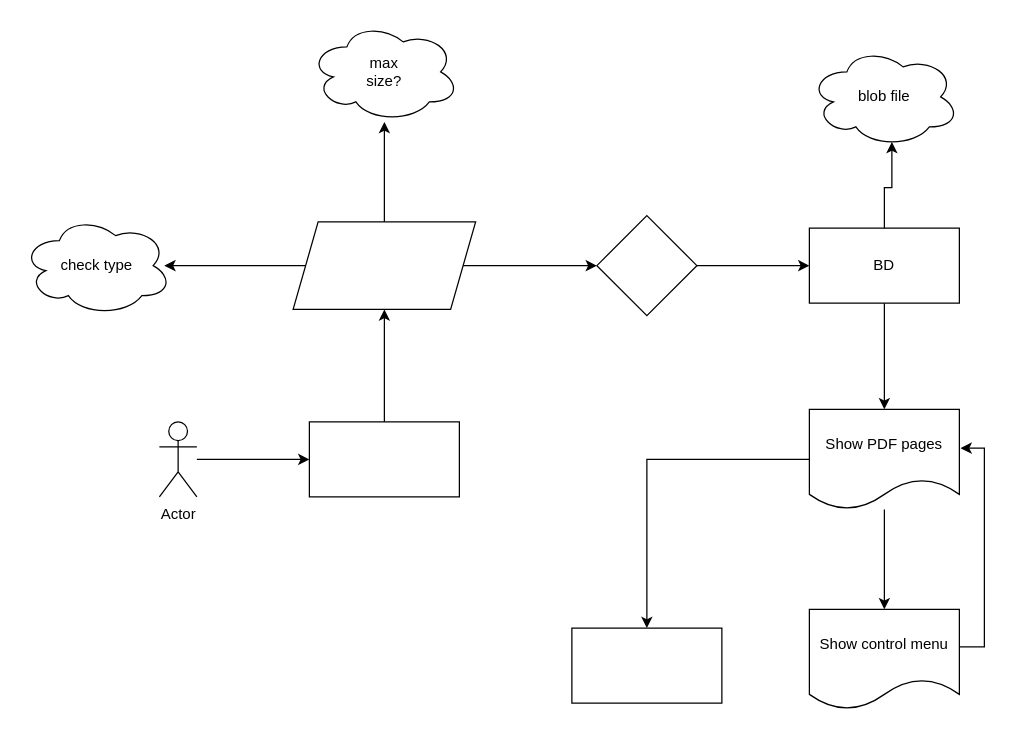
The diagram is 1016 pixels wide and 731 high, and some of its shapes have lost their labels. The centre of each missing label's shape, as x and y in pixels:
BD I/O: the point at 646,265
Send PDF file: the point at 384,265
Show rotate file: the point at 646,665
Wanna Rotate PDF: the point at 383,459
